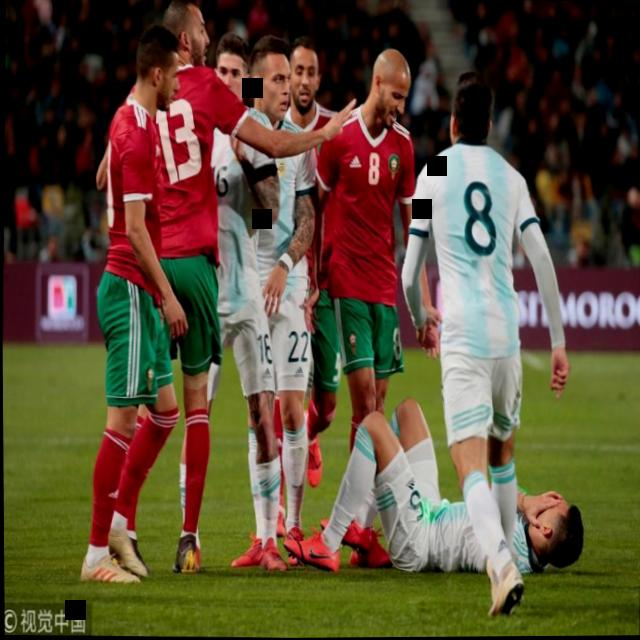Fall-Detected: (283, 387, 585, 600)
